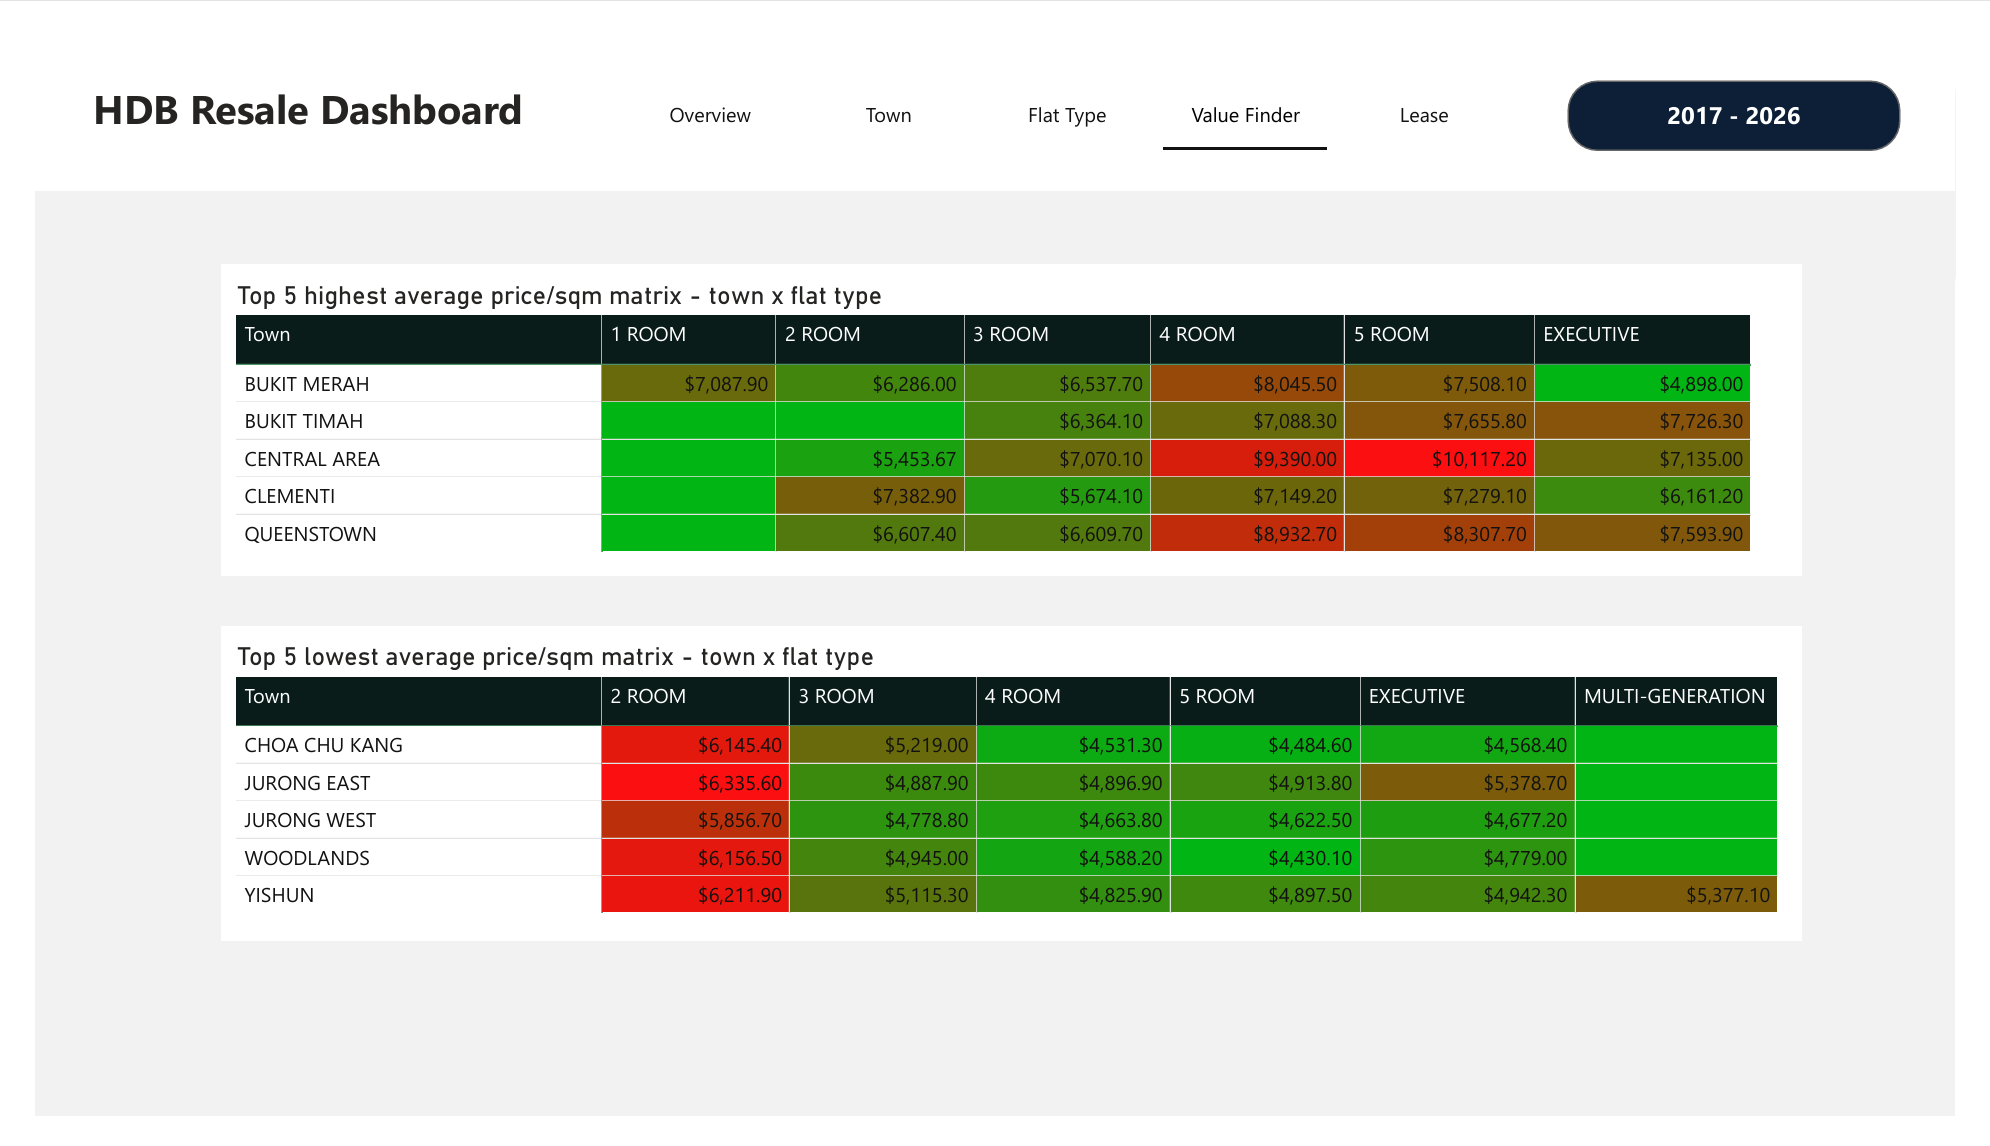

The page's visual inventory and layout, read from the dashboard file:
{"tool":"powerbi","page":{"name":"Value Finder","canvas":[1280,720],"ordinal":3},"visuals":[{"type":"shape","box":[0,0,1279.7,103],"z":0},{"type":"textbox","box":[33.3,29.4,361.8,45.1],"z":1000},{"type":"pageNavigator","box":[395.2,26.5,584.4,50],"z":2000},{"type":"textbox","box":[1020.8,29.4,222.6,47.1],"z":3000},{"type":"pivotTable","title":"Top 15: Average price/sqm matrix - town x flat type","fields":{"Values":["Avg(public vw_town_summary.avg_price_per_sqm)"],"Rows":["public vw_town_summary.town"],"Columns":["public vw_town_summary.flat_type"]},"box":[61,157.9,1156.8,448.6],"z":4000}]}

Visuals, with their boxes in screenshot pixels (x1, y1, x2, y2), scaled from the page's 1280x720 canvas onto the 1990x1146 screenshot:
shape: bbox=(0, 0, 1989, 164)
textbox: bbox=(52, 47, 614, 119)
pageNavigator: bbox=(614, 42, 1523, 122)
textbox: bbox=(1587, 47, 1933, 122)
"Top 15: Average price/sqm matrix - town x flat type" pivotTable: bbox=(95, 251, 1893, 965)
